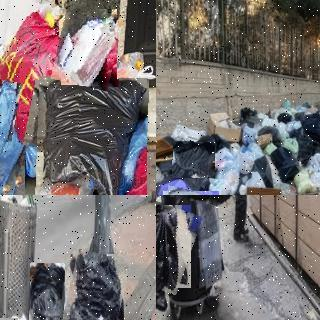Garbage: (36, 77, 148, 195), (0, 0, 70, 147), (55, 6, 121, 89), (66, 251, 127, 320), (0, 81, 34, 195), (156, 201, 196, 291), (29, 262, 64, 320), (173, 142, 215, 178), (268, 146, 300, 179), (302, 116, 320, 143)
